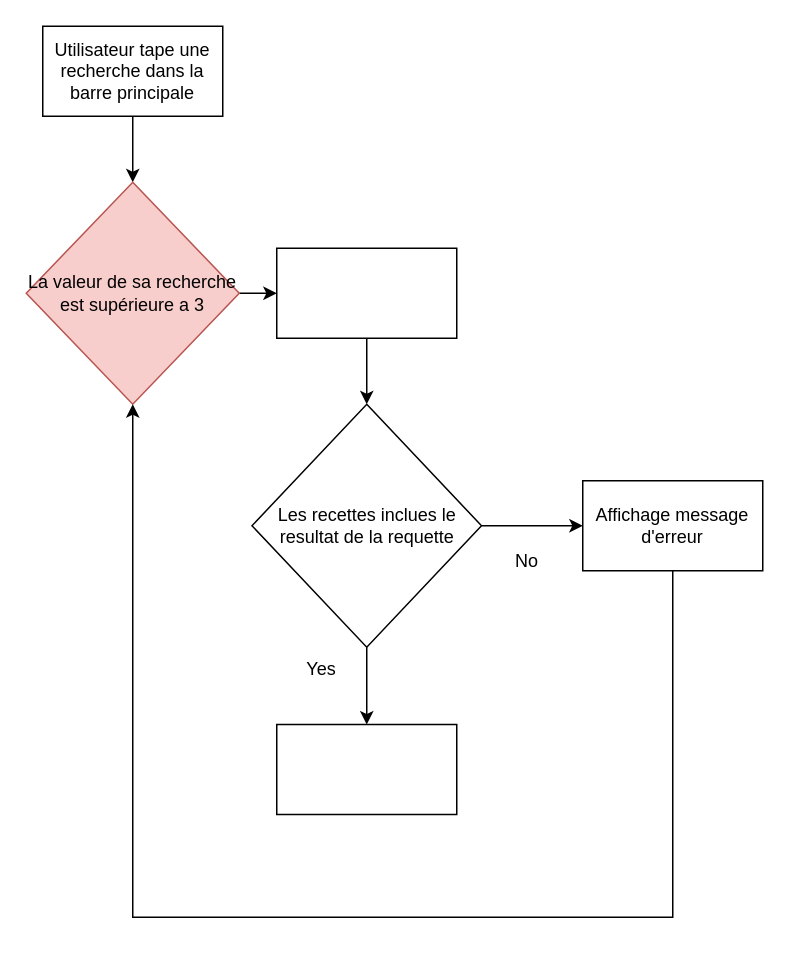
Some shapes in this 789 by 956 pixel diagram are drawn without their labels. The shapes that lost their labels are listed below. From the top down, each one's box as (x1, y1, x2, y2) in pixels, then its label:
(275, 247, 457, 338): Récupération des recettes
(275, 723, 457, 814): Les recettes sont affiches
